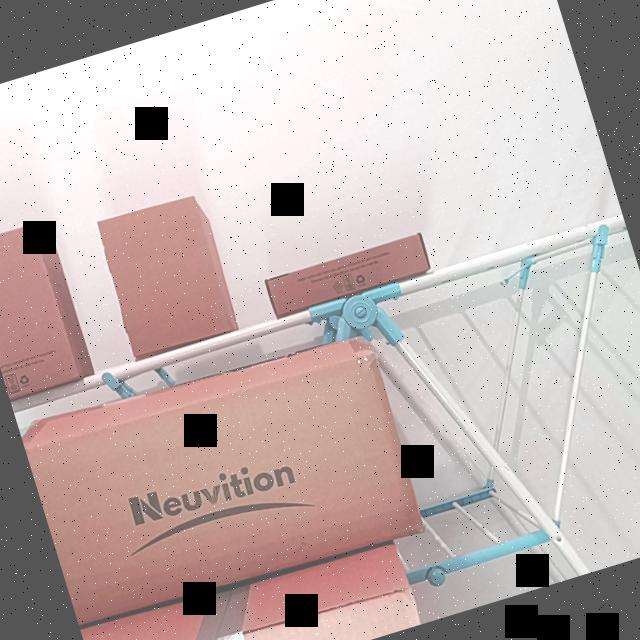box: (25, 344, 425, 628), (95, 192, 235, 360), (96, 578, 423, 640), (265, 230, 432, 316), (0, 222, 80, 396)
